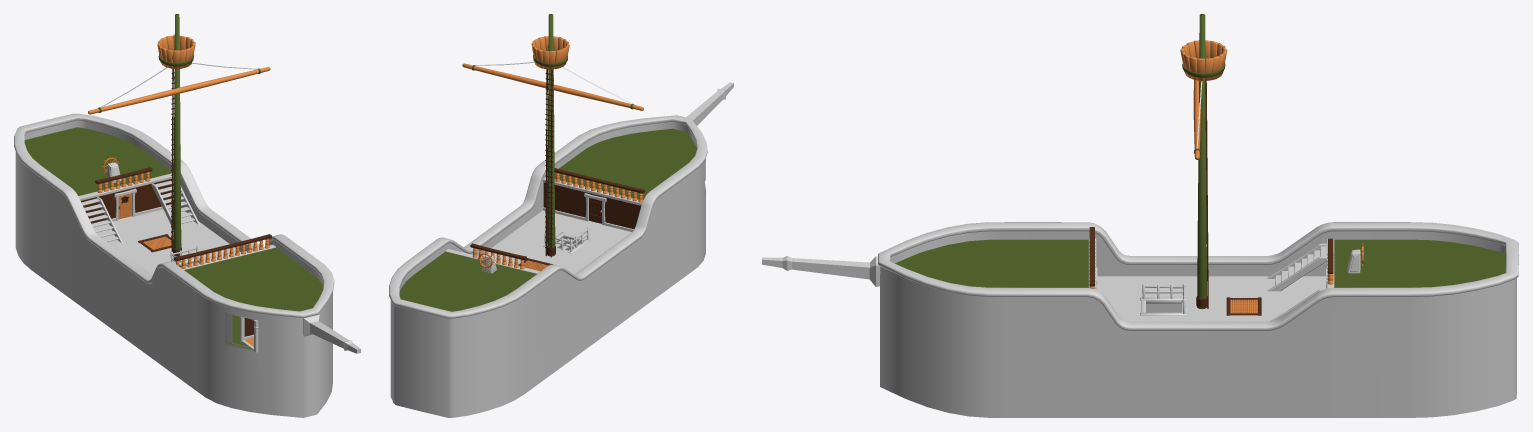
File: spacepirateshipfin5l.fbx
3 renders of one model, left to right at view 1: azimuth 30°, elevation 25°; view 2: azimuth 150°, elevation 25°; view 3: azimuth 270°, elevation 25°, orthographic. The views are drawn at different scales.
Visible parts, largest first — view 1: Aussenwand, Reling, Back, Front, Deck, Mast, Base.004, Quermast, CrowsNest, Bugspriet, Stairs2, Stairs1 (+6 smaller); view 2: Aussenwand, Front, Reling, Back, Deck, Mast, Ladder, Base.004, Quermast, CrowsNest, Bugspriet, Base (+2 smaller); view 3: Aussenwand, Reling, Front, Back, Deck, Mast, Bugspriet, CrowsNest, Stairs2, Treppenloch.
Part boxes in pixels (x1,y1,x2,y2): Aussenwand: [15, 120, 332, 417]; Reling: [14, 113, 334, 317]; Back: [24, 127, 173, 223]; Front: [184, 247, 323, 349]; Deck: [93, 208, 240, 274]; Mast: [172, 14, 181, 267]; Base.004: [173, 234, 271, 268]; Quermast: [88, 67, 270, 114]; CrowsNest: [157, 35, 195, 68]; Bugspriet: [303, 314, 360, 353]; Stairs2: [81, 197, 123, 243]; Stairs1: [151, 178, 199, 225]; Aussenwand: [390, 121, 705, 417]; Front: [543, 128, 696, 229]; Reling: [389, 115, 707, 318]; Back: [399, 251, 536, 311]; Deck: [482, 210, 631, 273]; Mast: [547, 14, 555, 256]; Ladder: [545, 69, 553, 257]; Base.004: [547, 168, 644, 202]; Quermast: [462, 63, 643, 110]; CrowsNest: [531, 36, 569, 69]; Bugspriet: [686, 82, 733, 125]; Base: [470, 243, 526, 269]; Aussenwand: [880, 231, 1516, 417]; Reling: [878, 222, 1518, 330]; Front: [895, 239, 1088, 287]; Back: [1334, 239, 1505, 287]; Deck: [1096, 276, 1326, 321]; Mast: [1196, 14, 1207, 309]; Bugspriet: [762, 255, 880, 286]; CrowsNest: [1180, 40, 1227, 80]; Stairs2: [1267, 243, 1326, 291]; Treppenloch: [1140, 283, 1186, 315].
Size of the model in its own units: 1591 by 2549 by 4754.
